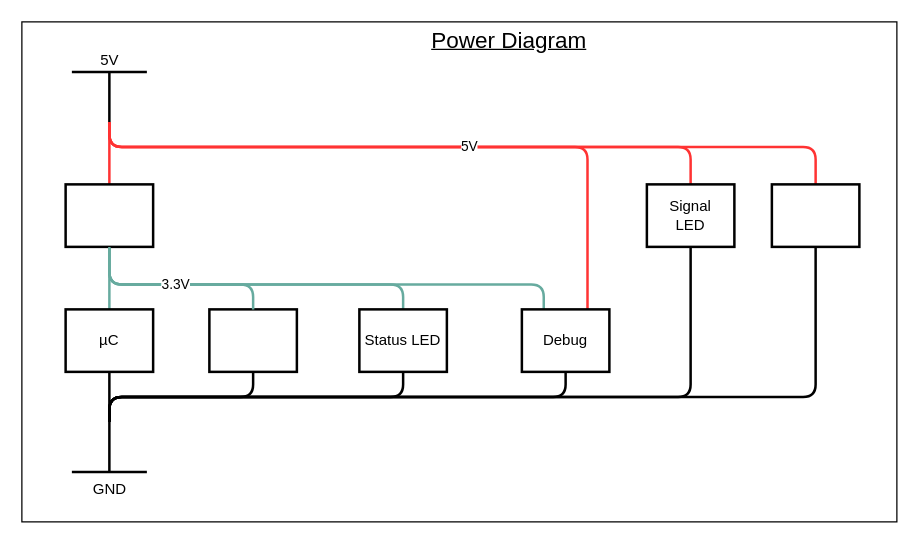
Image size: 919x544. Some labels were removed from this diagram. Here are the shapes that lost their labels. From the top down, the centre of each, then its label:
(x=109, y=215): LDO
(x=815, y=215): FAN
(x=253, y=340): CO2 Sensor
